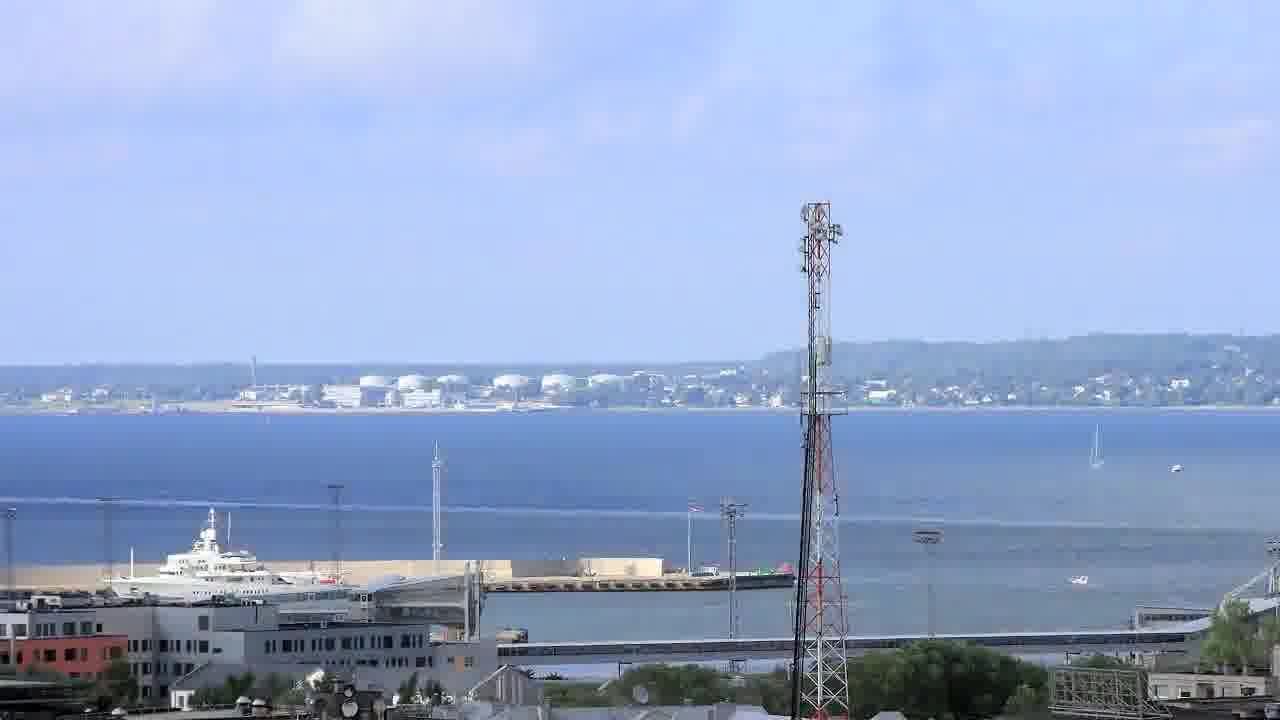type-3: (96, 508, 381, 605)
type-4: (1036, 554, 1090, 616), (1073, 419, 1123, 476), (1166, 421, 1205, 487)
